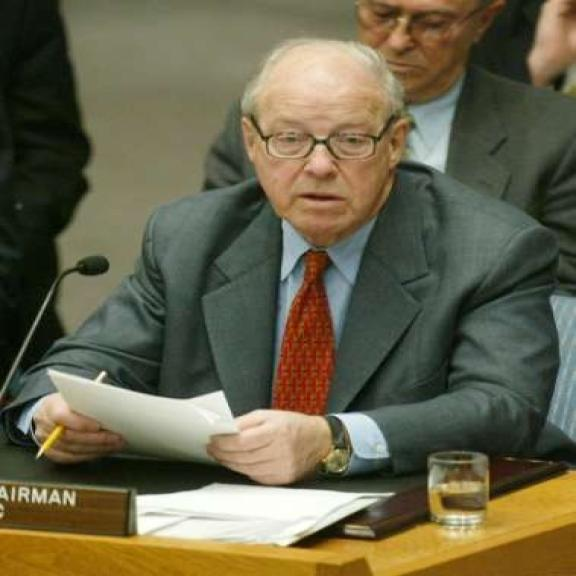face: (242, 71, 408, 234), (356, 0, 503, 96)
